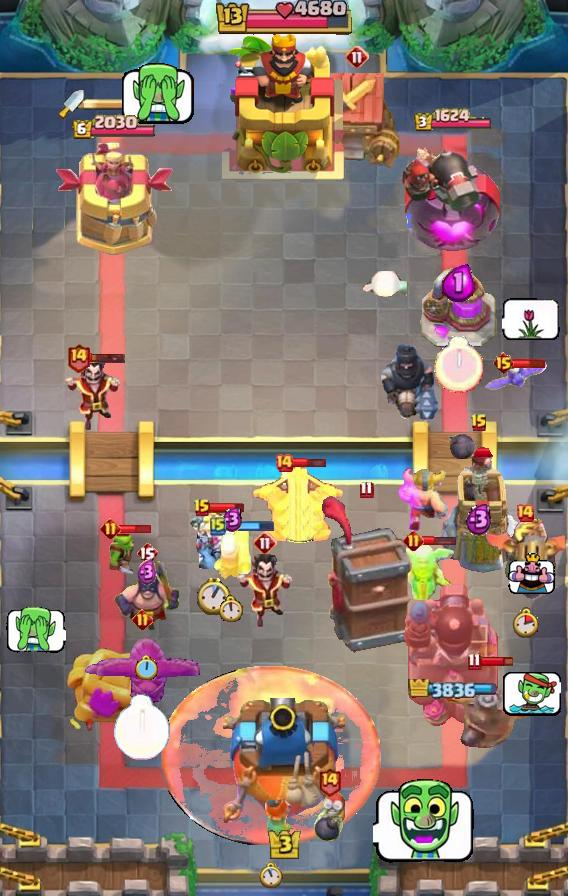bar: (54, 142, 173, 256)
barbarian: (485, 362, 551, 396)
bat: (361, 271, 407, 301)
clock: (213, 0, 355, 38)
dark-prince: (438, 666, 534, 756)
dart-goblin: (320, 495, 411, 653)
electro-spirit: (441, 264, 475, 302), (465, 502, 493, 536), (221, 506, 243, 532), (137, 559, 157, 586)
elixir: (113, 694, 171, 762), (433, 336, 483, 392), (197, 577, 231, 615), (512, 606, 539, 637), (220, 594, 244, 621), (135, 655, 159, 682), (259, 863, 283, 890)
emote: (223, 520, 275, 532), (293, 455, 328, 469), (478, 655, 513, 668), (90, 352, 127, 364), (209, 502, 245, 514), (119, 523, 154, 535), (512, 358, 546, 370), (422, 535, 458, 546)
goblin-giant: (398, 466, 450, 532)
hog-rider: (260, 794, 298, 846)
ice-golem: (311, 791, 347, 847)
inferno-dragon: (379, 334, 441, 422)
king-tower: (222, 31, 346, 181), (223, 698, 345, 826)
king-tower-bar: (84, 97, 156, 111)
lava-pup: (249, 464, 347, 546)
lumberjack: (62, 357, 124, 433), (234, 554, 296, 630)
monk: (113, 555, 181, 633)
mortar-evolution: (187, 507, 241, 569)
mother-witch: (84, 635, 200, 711)
night-witch: (484, 519, 566, 599)
pekka: (419, 267, 497, 349)
phoenix-egg: (161, 666, 381, 846)
poison: (381, 536, 469, 610)
selected: (71, 114, 157, 141), (413, 108, 493, 133), (408, 679, 498, 699)
skeleton: (373, 778, 476, 864), (118, 63, 198, 126), (501, 670, 561, 719), (6, 605, 66, 653), (502, 298, 560, 340), (509, 553, 556, 595)
sparky: (314, 72, 400, 170)
text: (66, 343, 91, 374), (318, 767, 343, 798), (345, 45, 369, 69), (253, 531, 277, 555), (493, 351, 516, 375), (136, 541, 158, 565), (99, 518, 121, 539), (131, 609, 153, 630), (403, 530, 424, 551), (274, 453, 294, 473), (515, 503, 535, 523), (470, 413, 488, 433), (193, 498, 211, 518), (210, 516, 226, 536), (467, 652, 481, 671), (359, 481, 373, 499)
tombstone: (211, 523, 253, 581)
tower-bar: (402, 579, 504, 731), (402, 136, 504, 256)
zap: (105, 530, 143, 576)
zappy: (435, 433, 523, 577)
